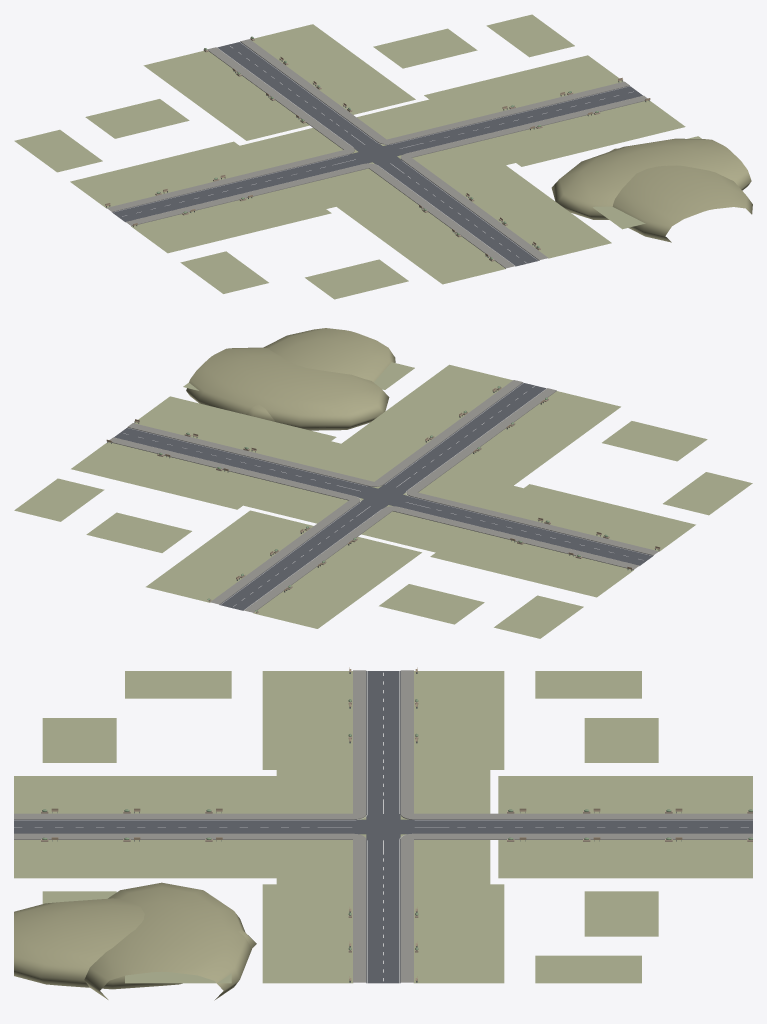
The picture shows the model from 3 angles, top to bottom: view 1: azimuth 30°, elevation 25°; view 2: azimuth 150°, elevation 25°; view 3: azimuth 270°, elevation 25°; orthographic projection. The views are drawn at different scales.
Parts seen in each view (by area): view 1: static; view 2: static; view 3: static.
Part boxes in pixels (box(x1,y1,x2,y2)): static: box(14, 14, 752, 299); static: box(14, 328, 752, 638); static: box(14, 667, 752, 1000).
Size of what is drawn, in the model's own units: 180 by 14.08 by 180.
